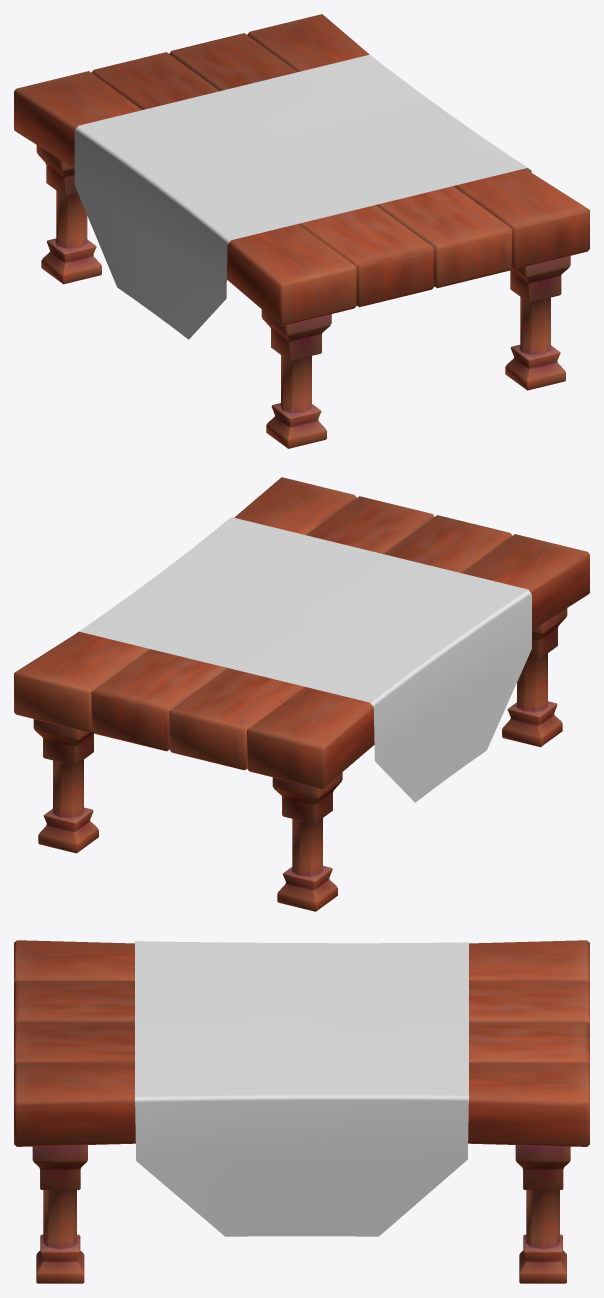
Rendered from table.fbx.
3 renders of one model, top to bottom at view 1: azimuth 30°, elevation 25°; view 2: azimuth 150°, elevation 25°; view 3: azimuth 270°, elevation 25°, orthographic. The views are drawn at different scales.
Parts seen in each view (by area): view 1: l_leg.001, cloth.001; view 2: l_leg.001, cloth.001; view 3: cloth.001, l_leg.001.
Part boxes in pixels (x1,y1,x2,y2): l_leg.001: (14,14,589,448); cloth.001: (74,54,531,339); l_leg.001: (14,477,589,911); cloth.001: (77,517,531,802); cloth.001: (135,941,468,1236); l_leg.001: (14,940,589,1283).
Bounding box in the file's own units: 520 × 285 × 777.
